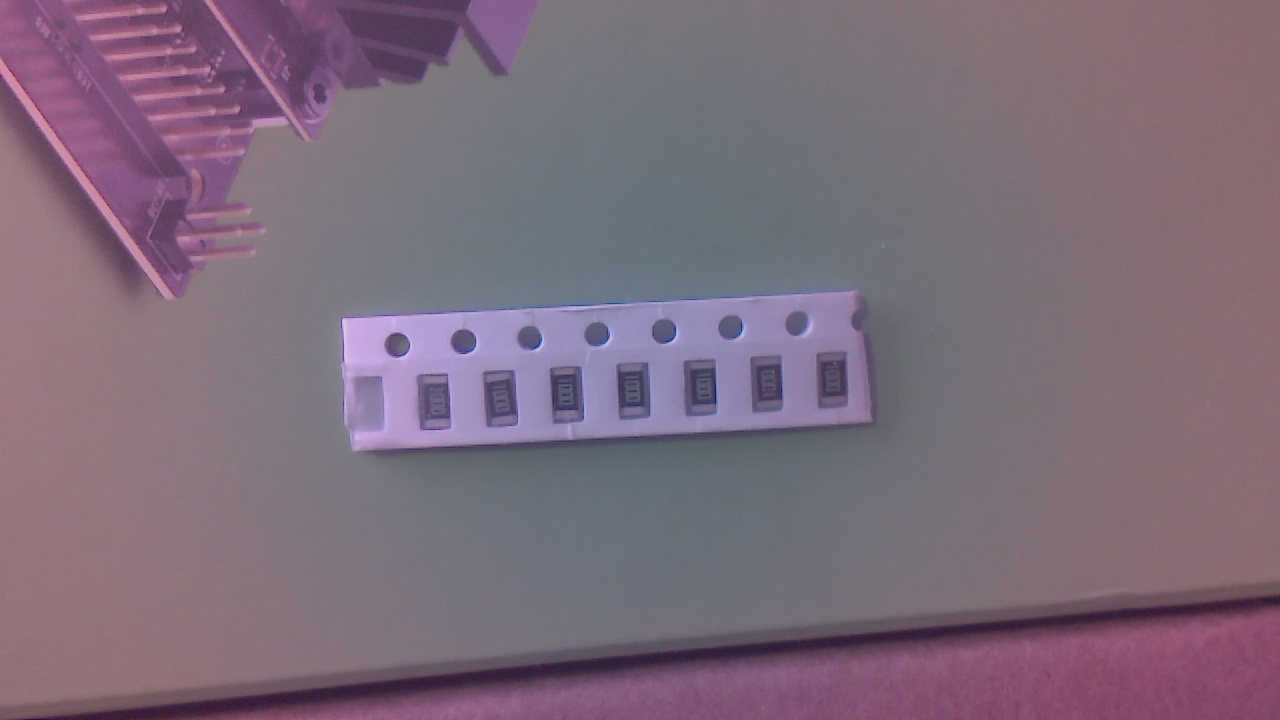Resistor: (487, 375, 525, 434), (421, 377, 458, 437), (754, 358, 790, 418), (820, 354, 855, 414), (689, 362, 723, 423), (555, 370, 589, 431), (620, 365, 655, 424)
